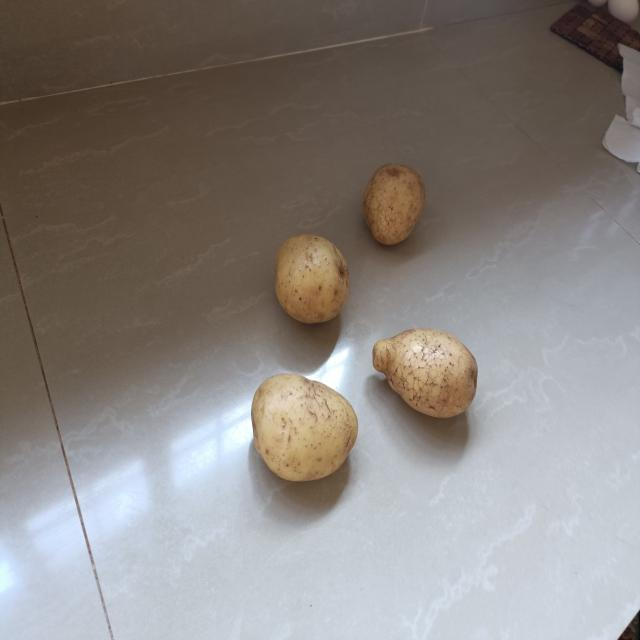potato: (249, 368, 361, 486), (371, 322, 483, 423), (270, 230, 352, 328), (361, 161, 430, 247)
